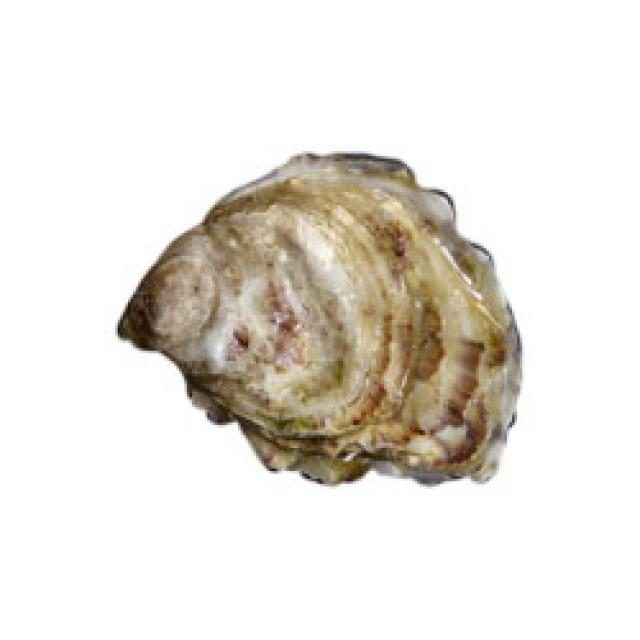Oyster- Indeterminate: (117, 153, 524, 489)
